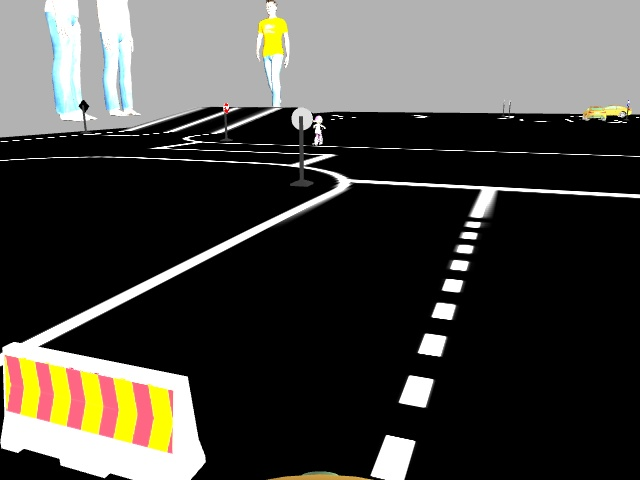ClosedRoadStand: (8, 344, 191, 474)
